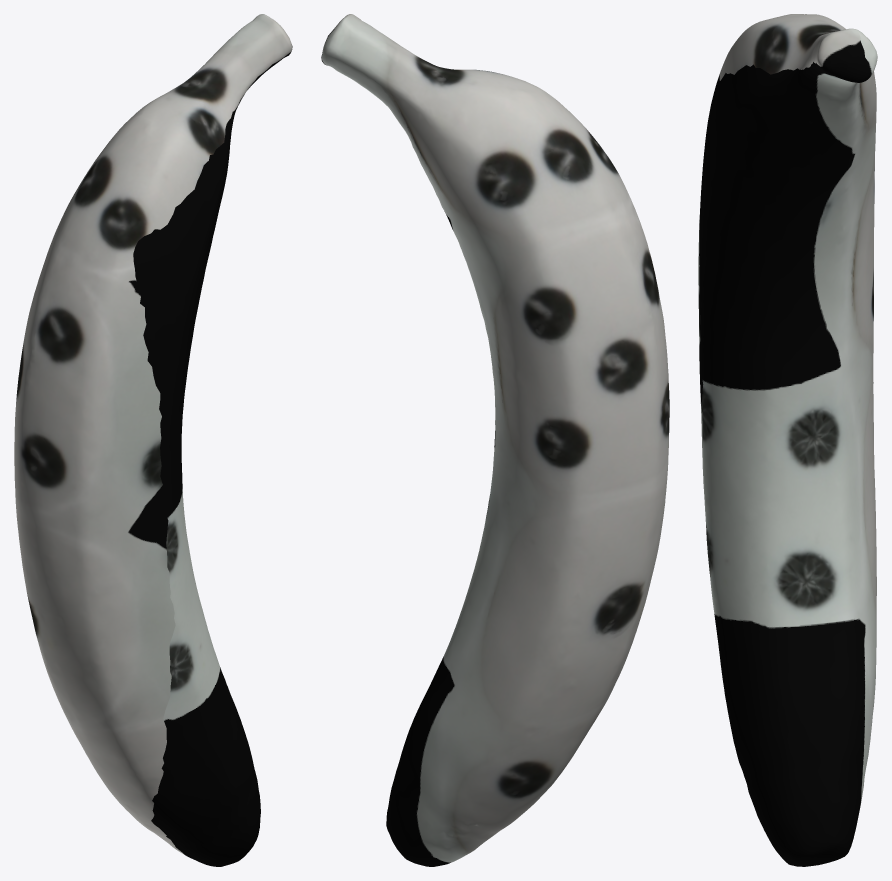
The picture shows the model from 3 angles, left to right: view 1: azimuth 30°, elevation 25°; view 2: azimuth 150°, elevation 25°; view 3: azimuth 270°, elevation 25°; orthographic projection. The views are drawn at different scales.
Visible parts, largest first — view 1: Banana; view 2: Banana; view 3: Banana.
Boxes of the visible parts, x1,y1,x2,y2 form: Banana: (14,14,292,866); Banana: (321,14,669,866); Banana: (698,14,877,866).
Size of the model in its own units: 0.0738 by 0.1969 by 0.0367.
